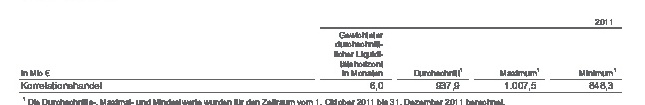table: (0, 0, 645, 105)
